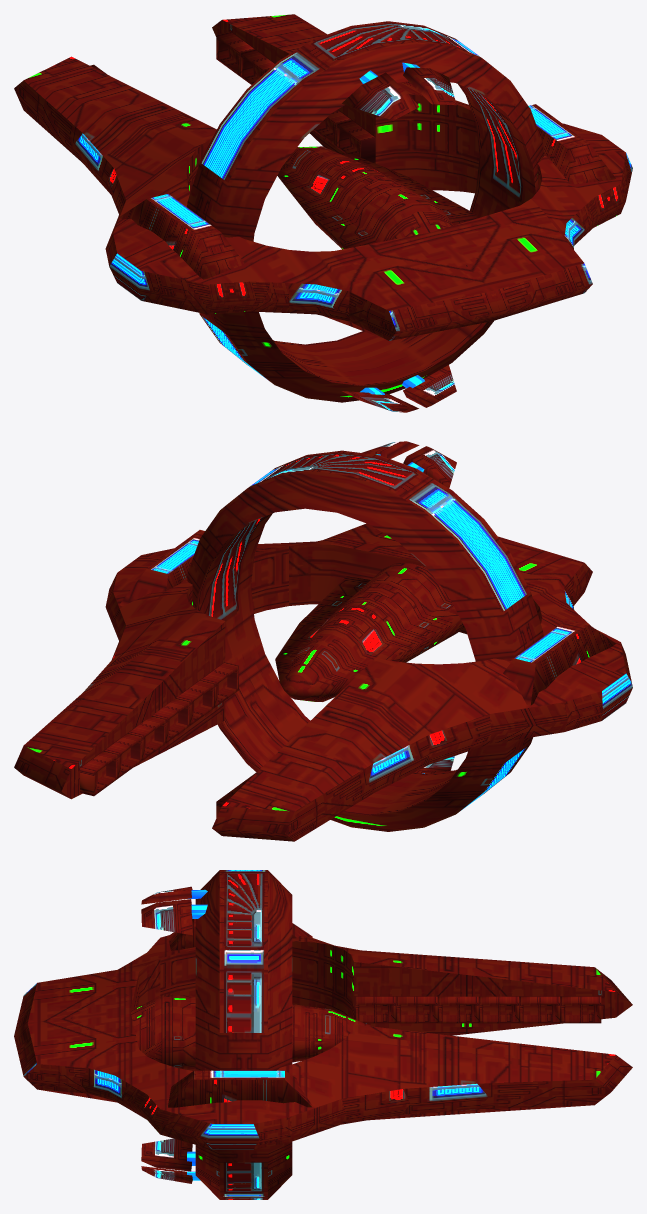
Rendered from Vul_Torrol.fbx.
The picture shows the model from 3 angles, top to bottom: view 1: azimuth 30°, elevation 25°; view 2: azimuth 150°, elevation 25°; view 3: azimuth 270°, elevation 25°; orthographic projection. The views are drawn at different scales.
Visible parts, largest first — view 1: Vul_Torrol; view 2: Vul_Torrol; view 3: Vul_Torrol.
Part boxes in pixels (<box>): Vul_Torrol: <box>14,14,632,412</box>; Vul_Torrol: <box>14,441,632,841</box>; Vul_Torrol: <box>14,870,632,1199</box>.
Bounding box in the file's own units: 461 × 313 × 588.
1 material, 1 textured.
